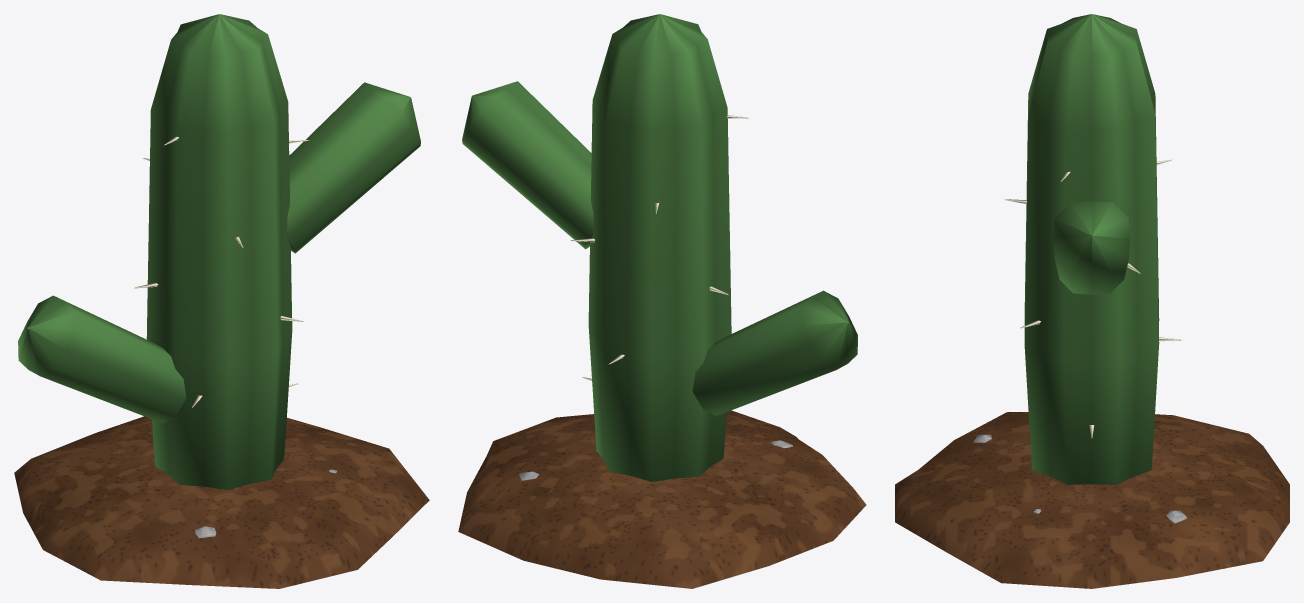
Rendered from plant-dragon-2.glb.
The picture shows the model from 3 angles, left to right: view 1: azimuth 30°, elevation 25°; view 2: azimuth 150°, elevation 25°; view 3: azimuth 270°, elevation 25°; orthographic projection.
Parts seen in each view (by area): view 1: plant-dragon-2; view 2: plant-dragon-2; view 3: plant-dragon-2.
Part boxes in pixels (x1,y1,x2,y2): plant-dragon-2: [14, 14, 429, 588]; plant-dragon-2: [458, 14, 866, 588]; plant-dragon-2: [895, 14, 1289, 588].
Size of the model in its own units: 0.9112 by 1.12 by 0.8189.
Materials: 4 (2 with a texture image).
